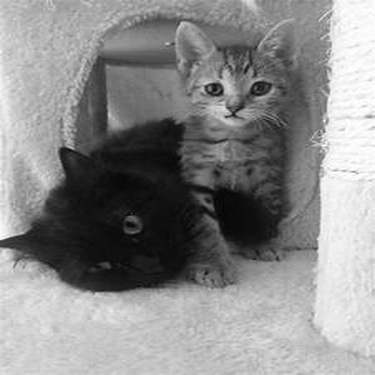cat: (1, 114, 279, 295), (171, 14, 298, 289)
